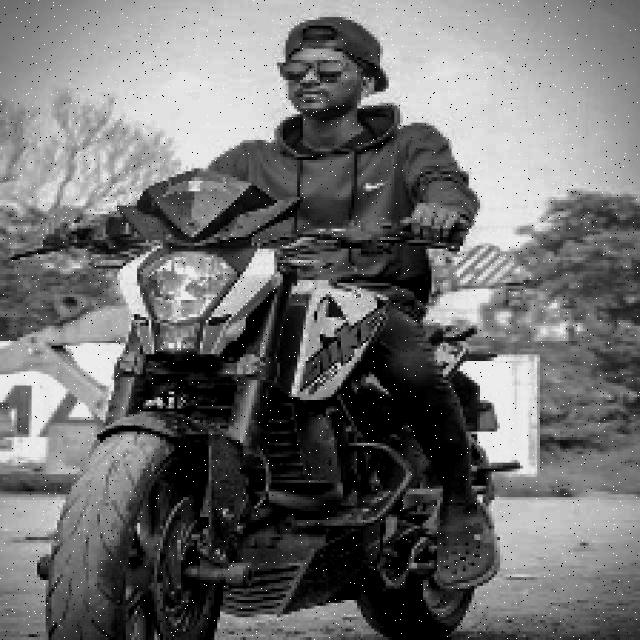Bike: (49, 194, 475, 640)
